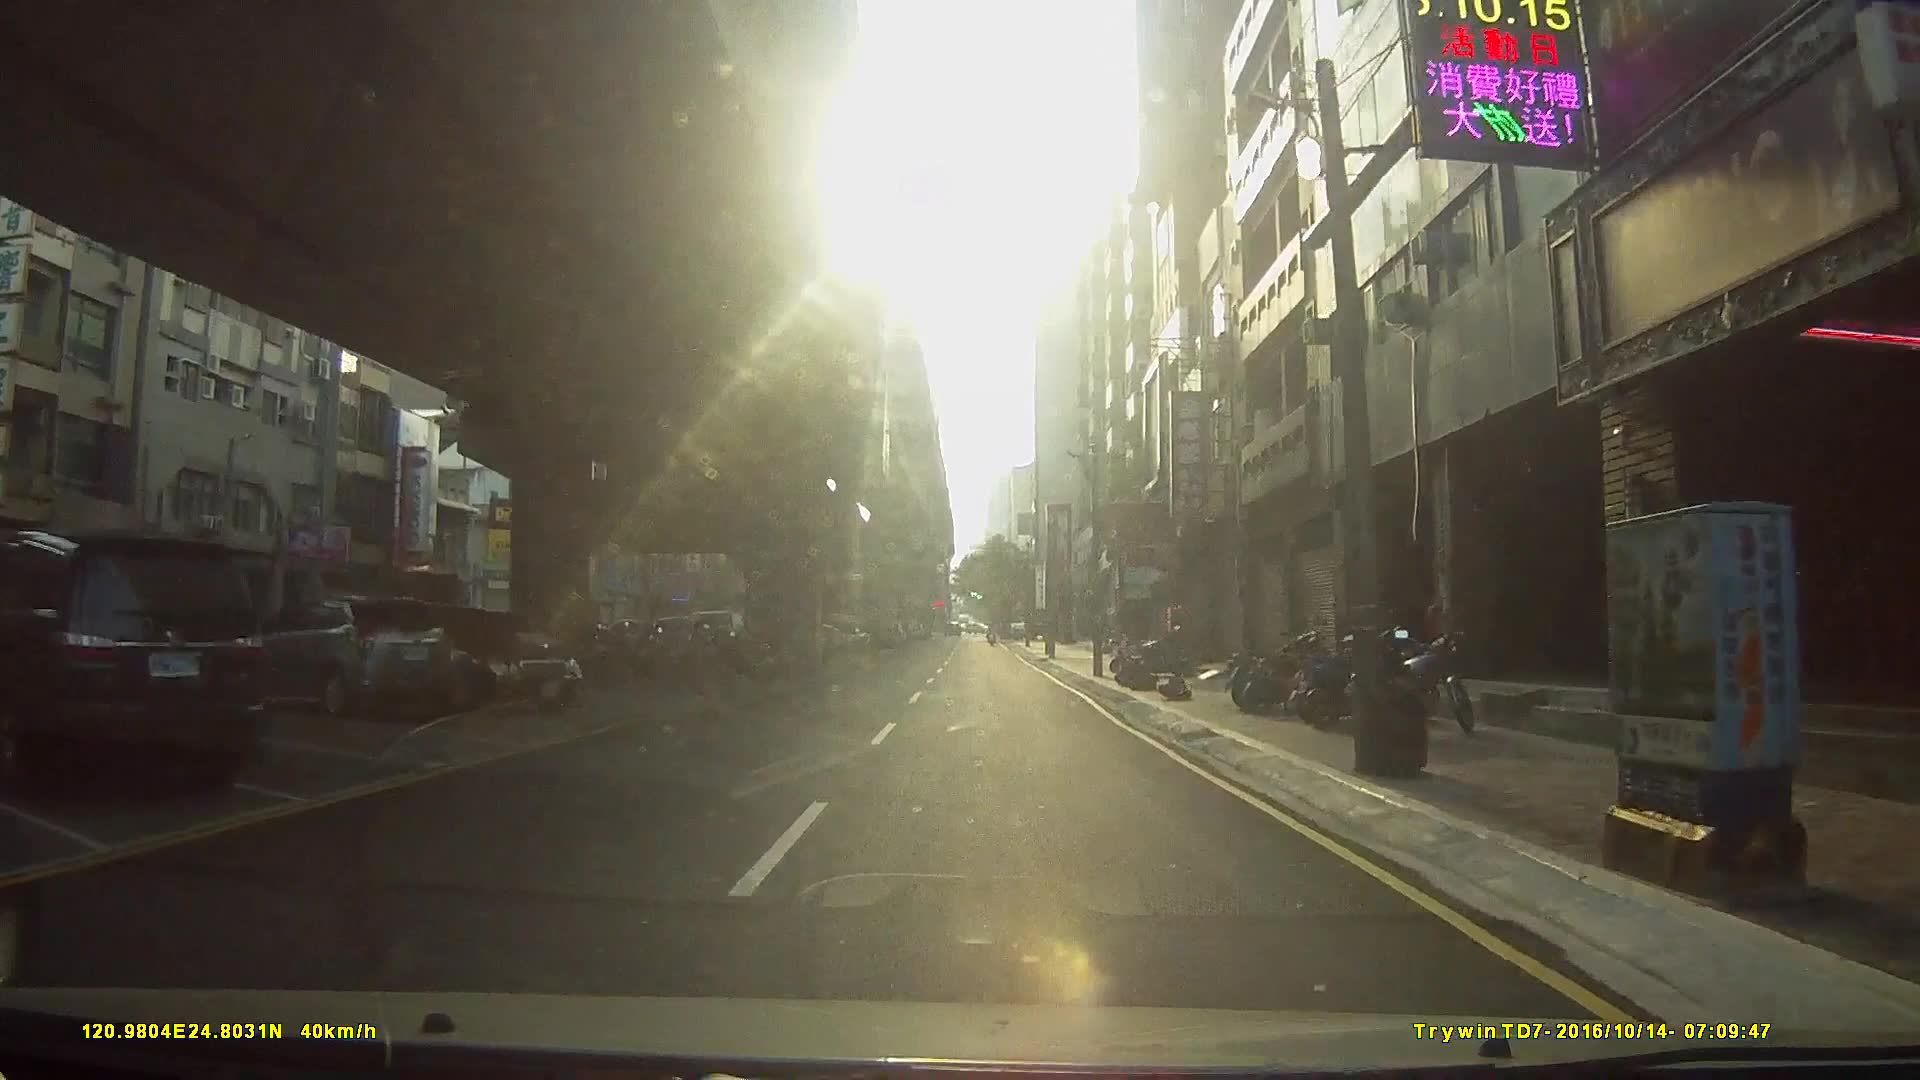vehicle: (0, 530, 262, 799), (225, 593, 452, 720), (338, 608, 580, 717)
